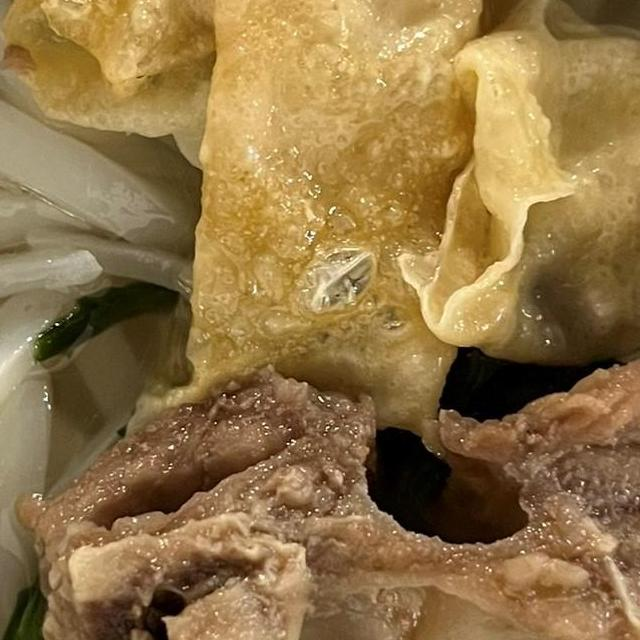banh pho: (0, 0, 351, 640), (0, 0, 640, 256)
